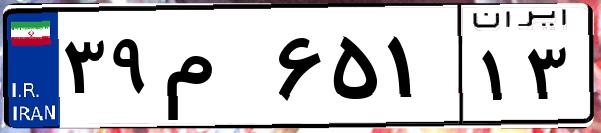1: (385, 28, 445, 110), (475, 38, 525, 113)
3: (57, 26, 110, 100), (525, 38, 570, 115)
5: (330, 28, 385, 110)
6: (270, 28, 330, 110)
9: (110, 28, 158, 98)
م: (158, 20, 270, 120)
